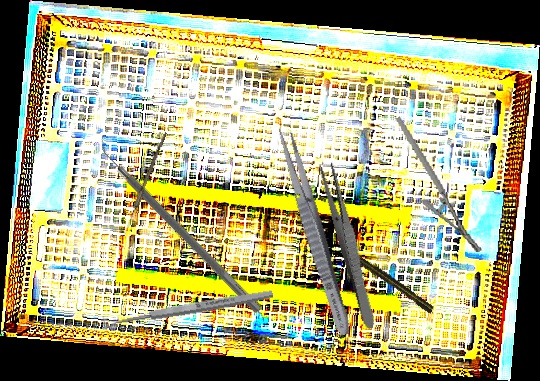Dressing Forceps: (271, 124, 357, 338), (316, 159, 382, 331)
Handpiece: (340, 244, 436, 315)
Needle Holder: (394, 105, 484, 264)
Spatula Surgical: (89, 134, 270, 315)
Surgical Spoon: (100, 287, 274, 331), (122, 131, 168, 236)
